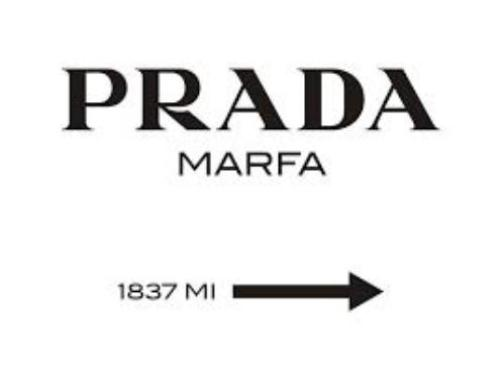PRADA: (55, 55, 445, 147)
